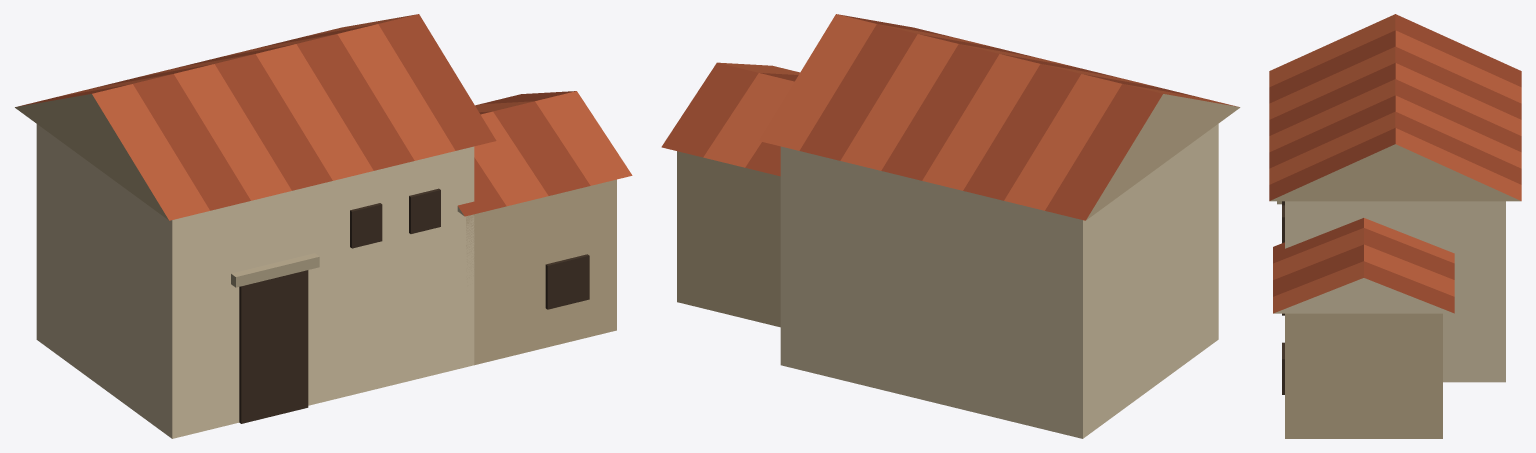
Rendered from roman_house.glb.
3 views of the same model, side by side, from view 1: azimuth 30°, elevation 25°; view 2: azimuth 150°, elevation 25°; view 3: azimuth 270°, elevation 25° (orthographic). The views are drawn at different scales.
Parts seen in each view (by area): view 1: roman_house2; view 2: roman_house2; view 3: roman_house2.
Part boxes in pixels (x1,y1,x2,y2): roman_house2: (15, 14, 632, 438); roman_house2: (661, 14, 1240, 438); roman_house2: (1269, 14, 1521, 438).
Size of the model in its own units: 5.55 by 3.4 by 3.2.
